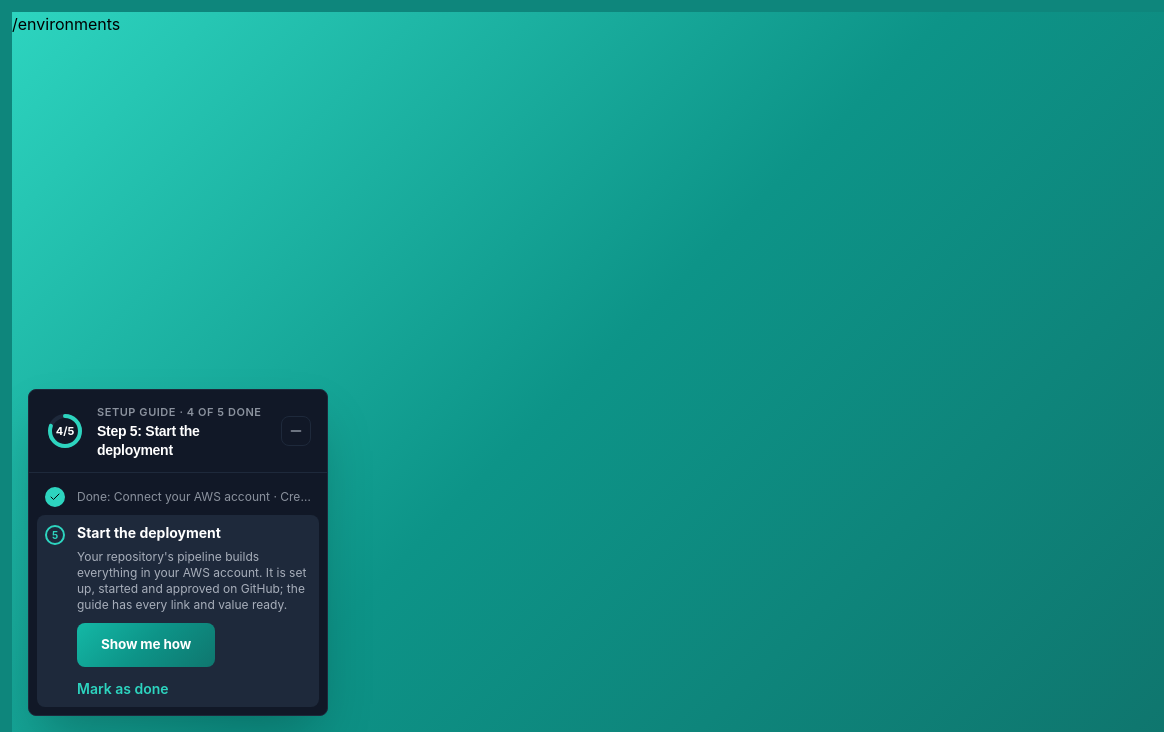
Test: GuideDock › ticks steps from real data and saves the deployment tick in the account
Expected: the element "Setup guide" shows "4 of 5 done", [28,388,328,716]
Click the button "Mark as done": (123, 689) [77,679,169,699]
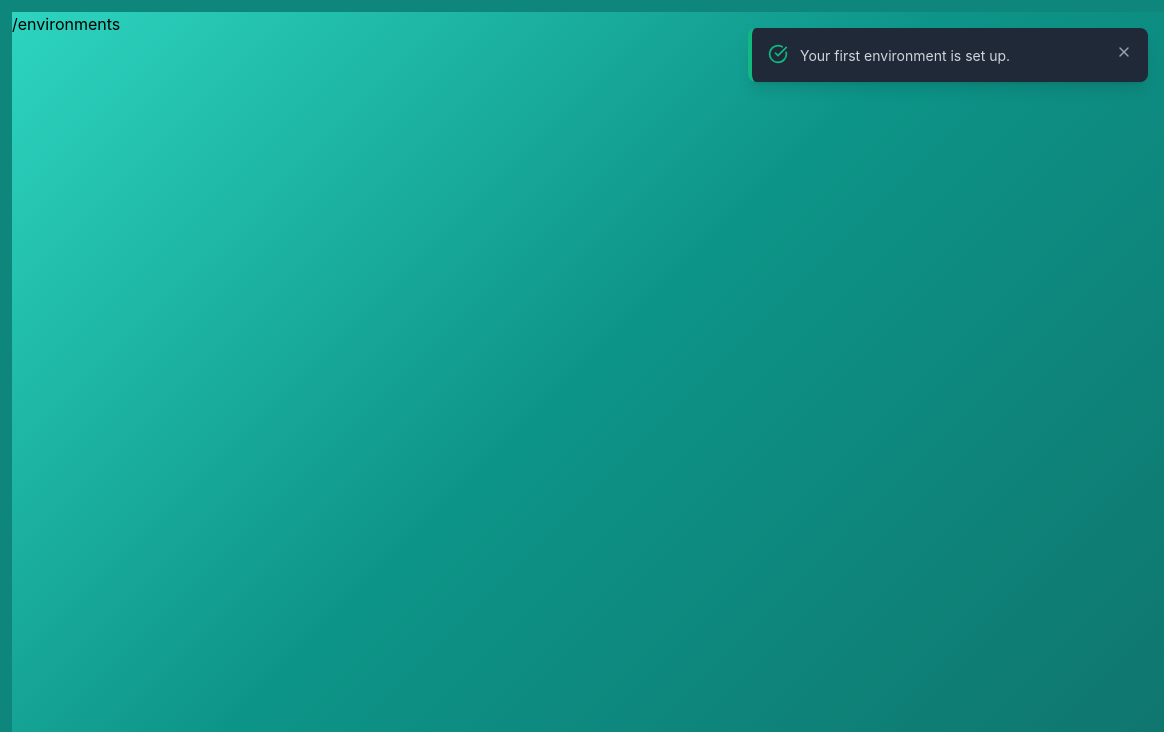
Now the text "Setup guide" is gone
Now the text "Your first environment is set up." is shown, box [800,47,1010,64]
